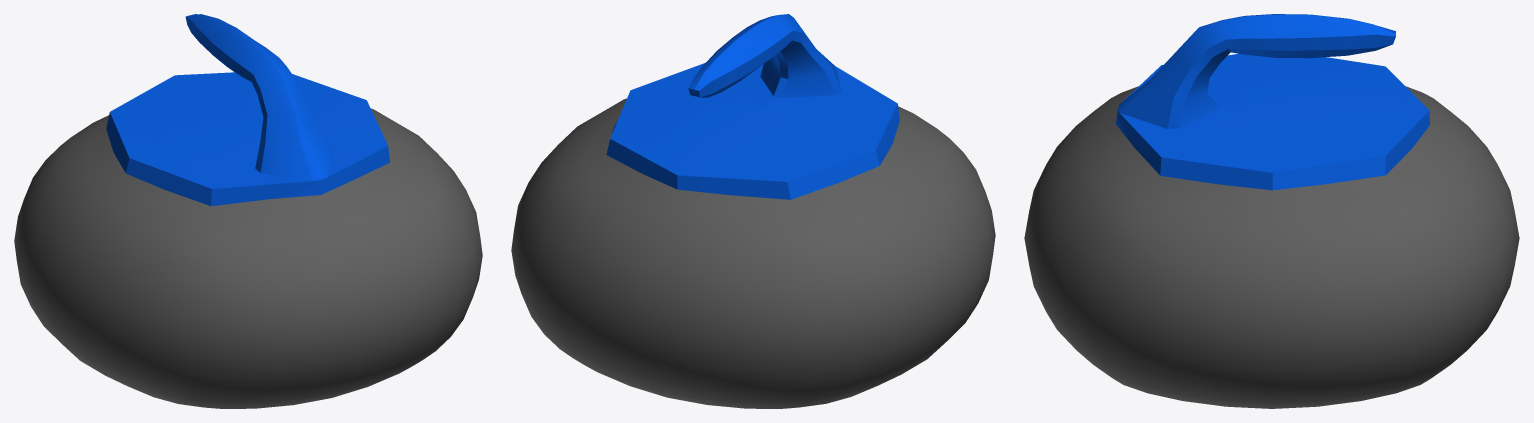
The model's file is Stone.fbx.
3 views of the same model, side by side, from view 1: azimuth 30°, elevation 25°; view 2: azimuth 150°, elevation 25°; view 3: azimuth 270°, elevation 25° (orthographic). The views are drawn at different scales.
Parts seen in each view (by area): view 1: Stone; view 2: Stone; view 3: Stone.
Part boxes in pixels (<box>): Stone: <box>14,14,482,408</box>; Stone: <box>511,14,995,408</box>; Stone: <box>1024,14,1519,408</box>.
Bounding box in the file's own units: 237 × 179 × 237.
